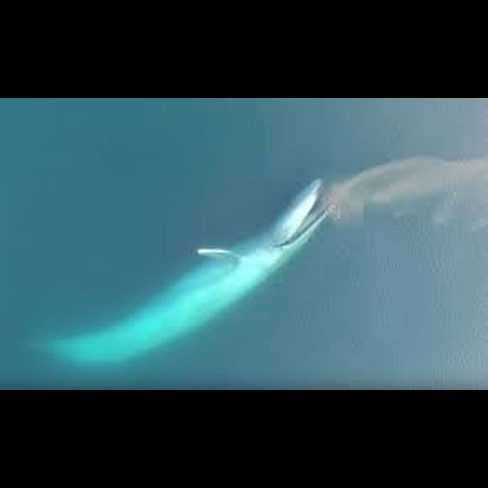bluewhale: (10, 176, 342, 378)
